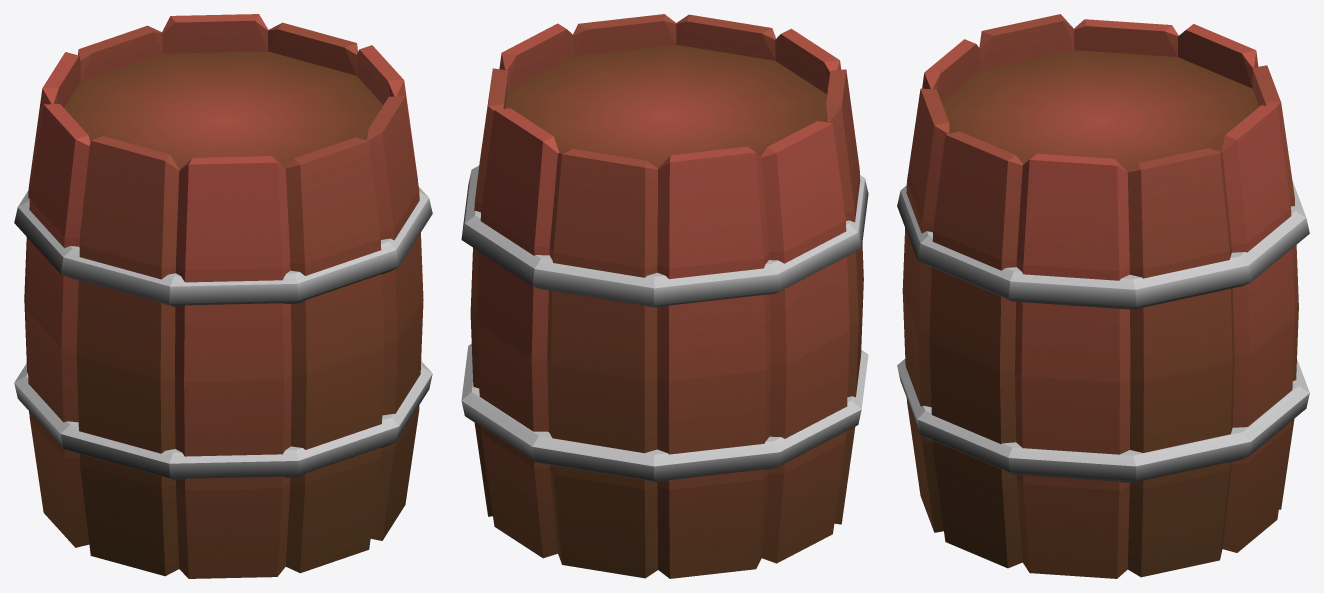
3 views of the same model, side by side, from view 1: azimuth 30°, elevation 25°; view 2: azimuth 150°, elevation 25°; view 3: azimuth 270°, elevation 25° (orthographic).
Visible parts, largest first — view 1: Barrel; view 2: Barrel; view 3: Barrel.
Part boxes in pixels (x1,y1,x2,y2): Barrel: (14, 14, 432, 578); Barrel: (461, 14, 868, 578); Barrel: (897, 14, 1309, 578).
Bounding box in the file's own units: 63.24 × 70 × 63.24.
1 material, 1 textured.
